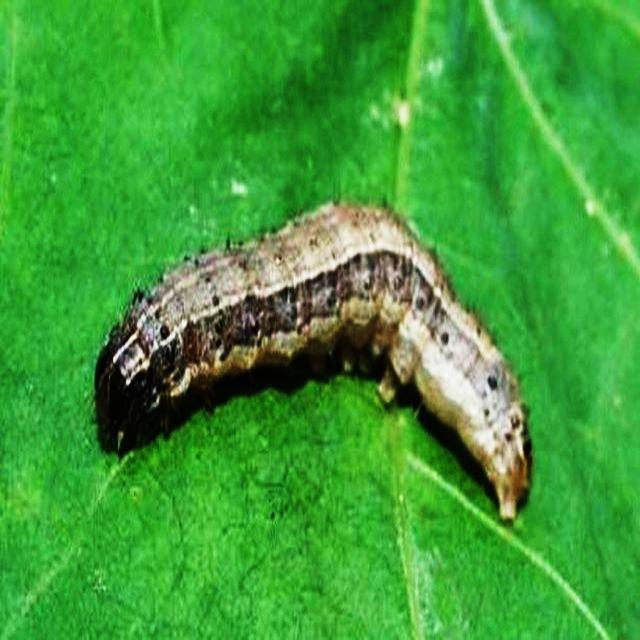worm: (92, 198, 535, 527)
